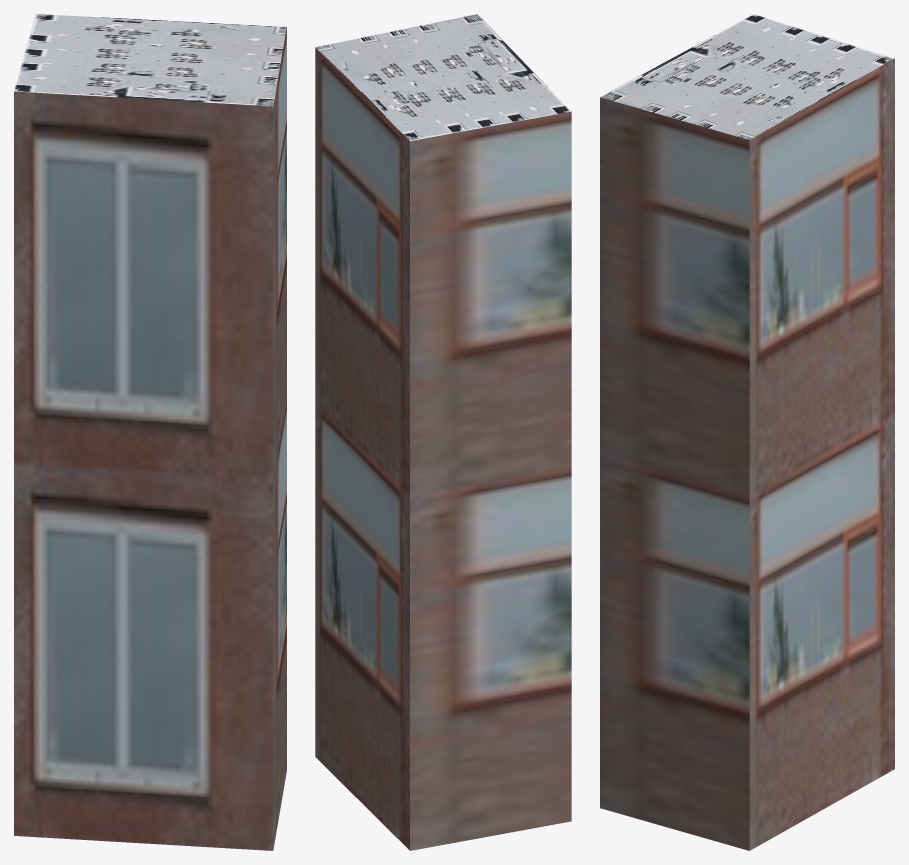
File: ResTex__3923.fbx
The picture shows the model from 3 angles, left to right: view 1: azimuth 30°, elevation 25°; view 2: azimuth 150°, elevation 25°; view 3: azimuth 270°, elevation 25°; orthographic projection. The views are drawn at different scales.
Visible parts, largest first — view 1: CityEngineMaterial_19_m, CityEngineMaterial_15_m; view 2: CityEngineMaterial_19_m, CityEngineMaterial_15_m; view 3: CityEngineMaterial_19_m, CityEngineMaterial_15_m.
Part boxes in pixels (x1,y1,x2,y2): CityEngineMaterial_19_m: [14, 27, 286, 850]; CityEngineMaterial_15_m: [14, 14, 286, 106]; CityEngineMaterial_19_m: [315, 47, 571, 850]; CityEngineMaterial_15_m: [316, 14, 571, 140]; CityEngineMaterial_19_m: [600, 58, 894, 850]; CityEngineMaterial_15_m: [600, 14, 894, 139].
Size of the model in its own units: 2.28 by 6 by 2.26.
Materials: 2 (2 with a texture image).
